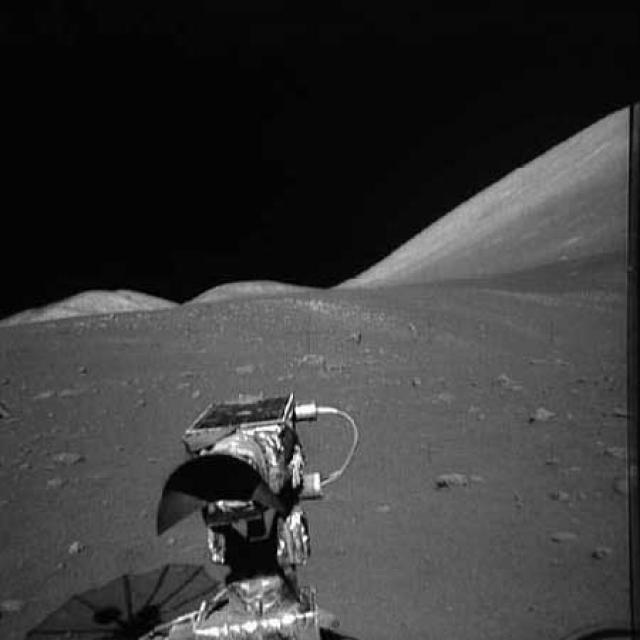artifact: (146, 390, 380, 639), (17, 561, 218, 640)
rock: (431, 454, 489, 494), (520, 400, 558, 426), (54, 438, 84, 470), (548, 518, 578, 546), (602, 444, 629, 466), (612, 400, 633, 423)
